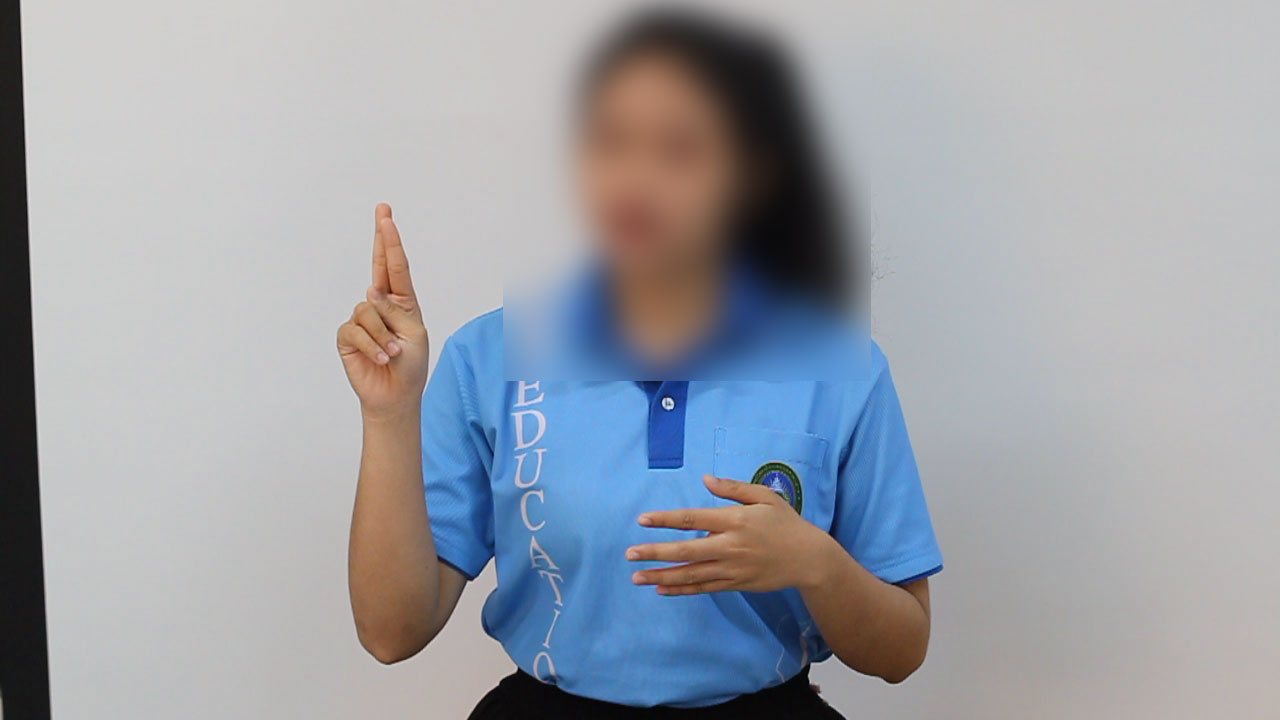rao: (311, 196, 463, 432)
